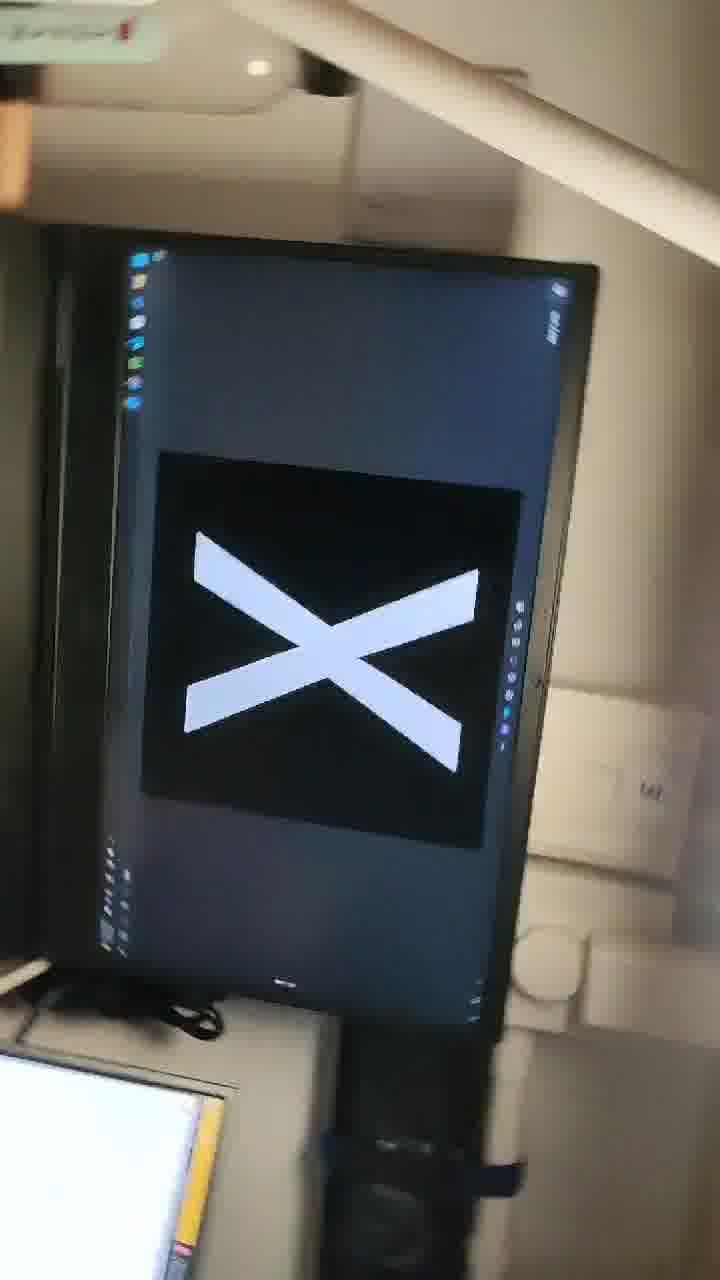X: (141, 476, 496, 831)
